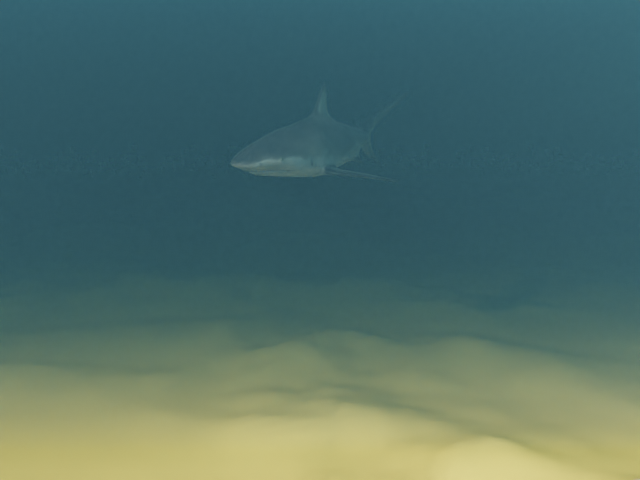Carribean Shark.001: (230, 83, 408, 181)
